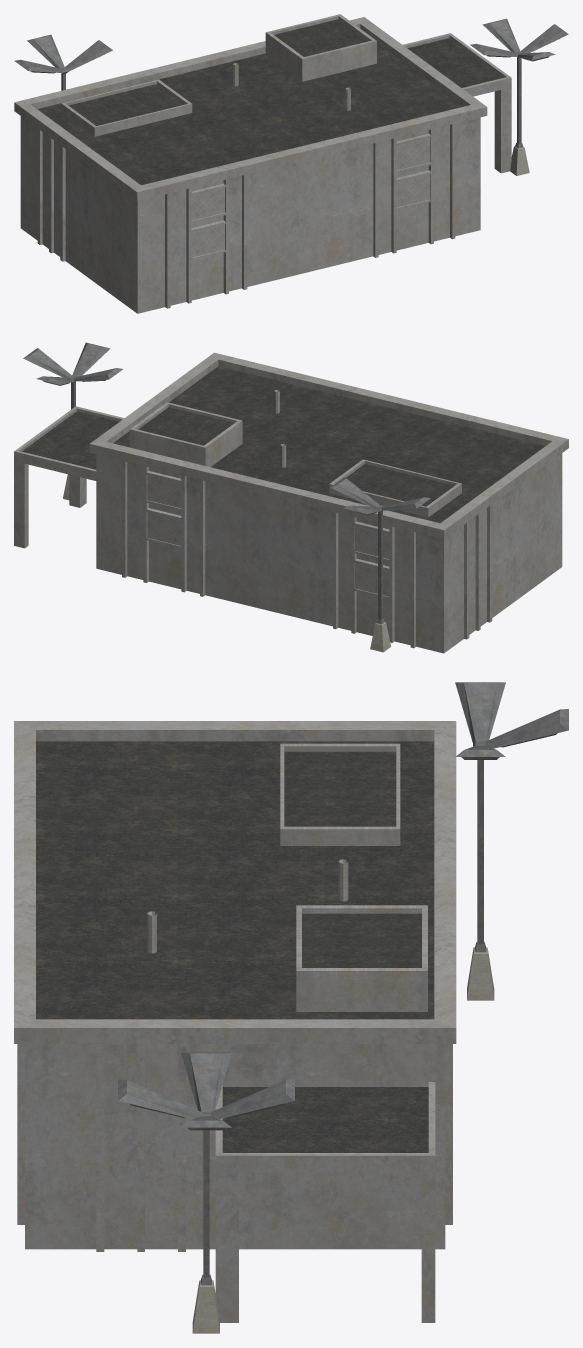
The model's file is City15.obj.
3 views of the same model, one above another, from view 1: azimuth 30°, elevation 25°; view 2: azimuth 150°, elevation 25°; view 3: azimuth 270°, elevation 25° (orthographic). The views are drawn at different scales.
Parts seen in each view (by area): view 1: City15; view 2: City15; view 3: City15.
Part boxes in pixels (box(x1,y1,x2,y2)): City15: box(14, 14, 568, 313); City15: box(14, 342, 568, 653); City15: box(14, 682, 568, 1333).
Size of the model in its own units: 38.12 by 11.79 by 21.3.
Materials: 6 (6 with a texture image).
